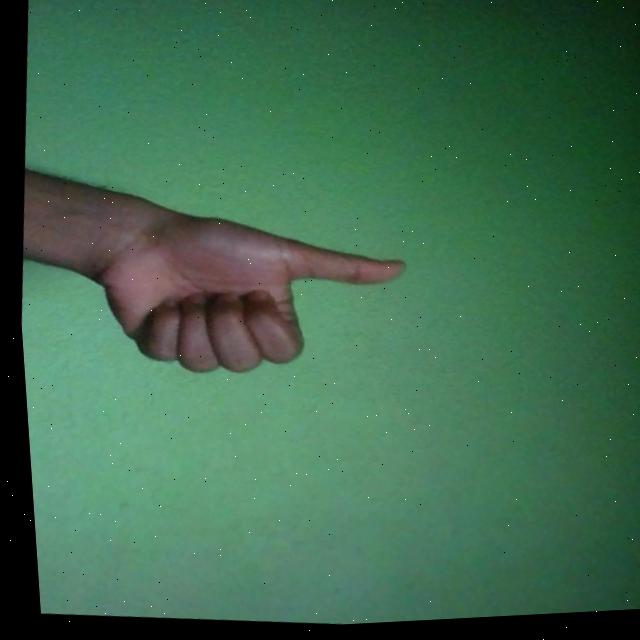Good Job: (69, 200, 412, 397)
